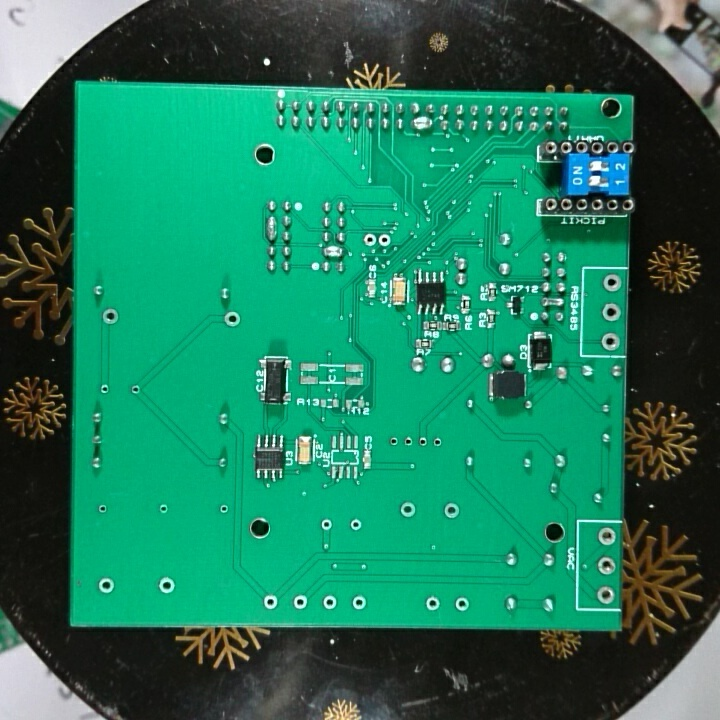F: (595, 525, 619, 549), (595, 553, 619, 577), (594, 581, 617, 605), (155, 574, 177, 598), (600, 300, 622, 324), (599, 330, 622, 352), (600, 272, 622, 295), (397, 498, 419, 520), (441, 500, 463, 522), (97, 575, 118, 598), (451, 594, 471, 615), (99, 306, 119, 326), (421, 594, 443, 612), (222, 309, 242, 328), (350, 593, 368, 614), (320, 593, 338, 613), (318, 516, 337, 534), (96, 500, 112, 520), (262, 592, 278, 612), (415, 431, 430, 452), (155, 500, 172, 518), (291, 593, 308, 611), (385, 434, 402, 452), (377, 232, 393, 249), (128, 382, 142, 401), (347, 515, 361, 534), (401, 432, 414, 452), (362, 232, 377, 249), (97, 380, 111, 398), (217, 500, 230, 518), (431, 435, 442, 452)
P: (411, 115, 434, 134), (265, 212, 279, 243), (539, 295, 565, 309), (322, 243, 345, 258)
